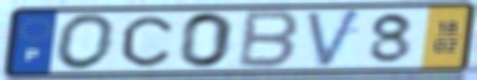0: (175, 11, 241, 70)
8: (366, 11, 416, 65)
B: (234, 9, 303, 71)
C: (119, 14, 175, 68)
O: (54, 12, 119, 72)
V: (304, 7, 365, 70)
